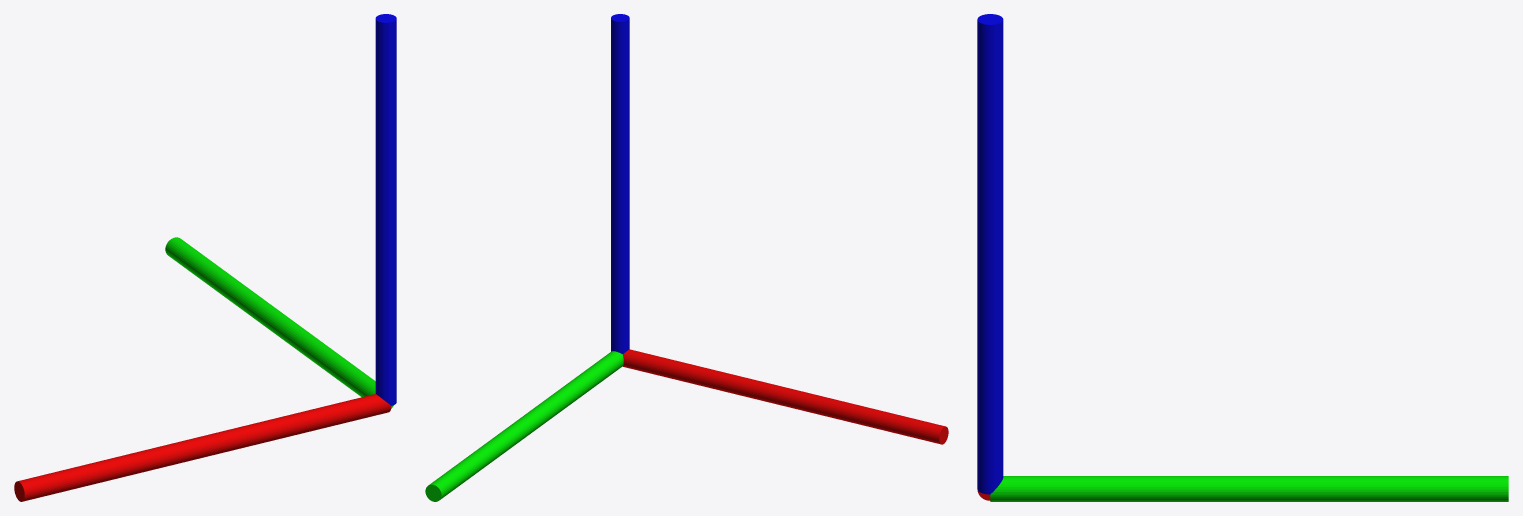
File: axis.fbx
3 renders of one model, left to right at view 1: azimuth 30°, elevation 25°; view 2: azimuth 150°, elevation 25°; view 3: azimuth 270°, elevation 25°, orthographic. The views are drawn at different scales.
Parts seen in each view (by area): view 1: Cylinder, Cylinder.003, Cylinder.001; view 2: Cylinder, Cylinder.003, Cylinder.001; view 3: Cylinder.001, Cylinder.
Part boxes in pixels (x1=…): Cylinder: x1=375, y1=14, x2=396, y2=405; Cylinder.003: x1=14, y1=394, x2=391, y2=501; Cylinder.001: x1=165, y1=237, x2=393, y2=408; Cylinder: x1=611, y1=14, x2=629, y2=354; Cylinder.003: x1=623, y1=349, x2=948, y2=444; Cylinder.001: x1=425, y1=351, x2=623, y2=501; Cylinder.001: x1=990, y1=476, x2=1508, y2=501; Cylinder: x1=977, y1=14, x2=1003, y2=494.
Bounding box in the file's own units: 70.42 × 70.43 × 70.42.
